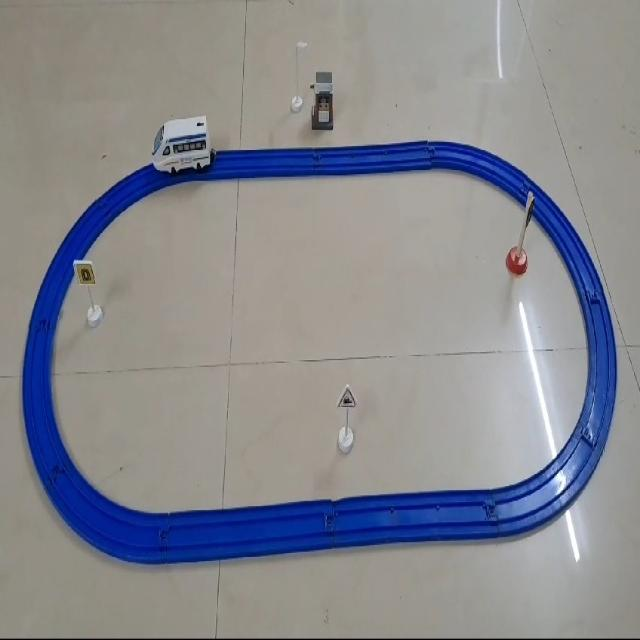bus: (151, 114, 213, 174)
